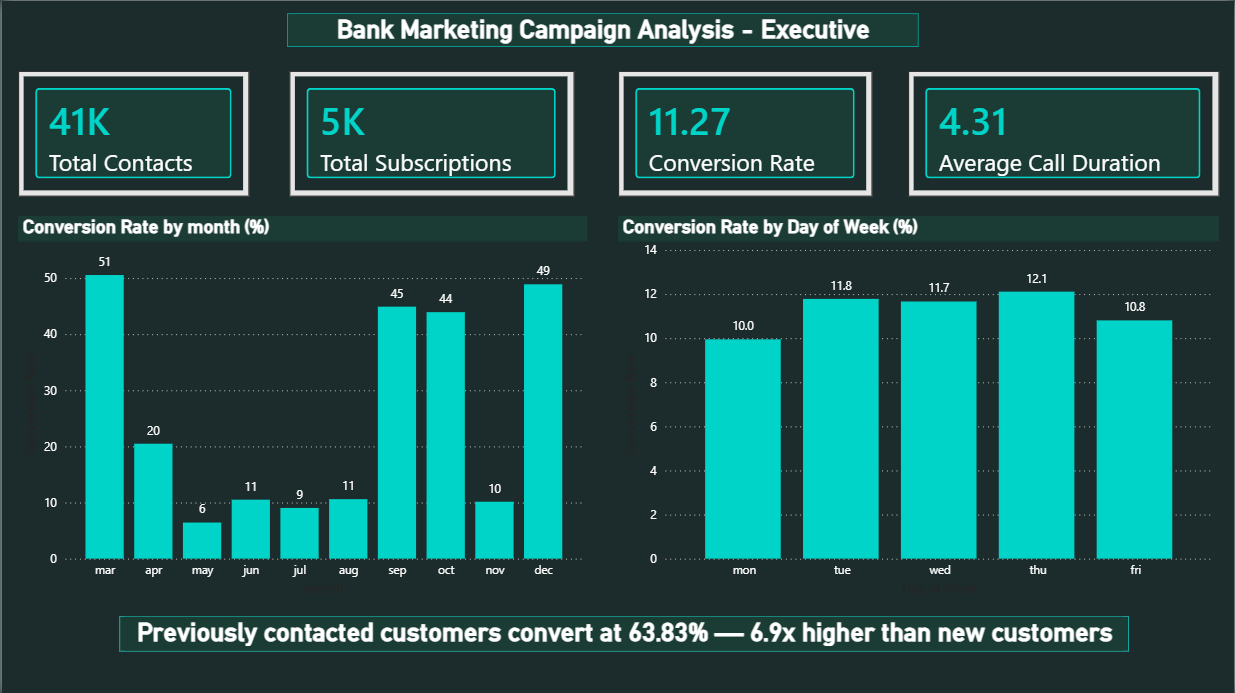

This screenshot's page, from the dashboard's own definition file:
{"tool":"powerbi","page":{"name":"Executive Overview","canvas":[1280,720],"ordinal":0},"visuals":[{"type":"cardVisual","fields":{"Data":["bank_marketing_cleaned.Total Contacts"]},"box":[17.1,72.9,240,130],"z":0},{"type":"cardVisual","fields":{"Data":["bank_marketing_cleaned.Total Subscriptions"]},"box":[298.6,72.9,295.7,130],"z":1000},{"type":"cardVisual","fields":{"Data":["bank_marketing_cleaned.Conversion Rate"]},"box":[640,72.9,264.3,130],"z":2000},{"type":"cardVisual","fields":{"Data":["bank_marketing_cleaned.Average Call Duration"]},"box":[941.4,72.9,322.9,130],"z":3000},{"type":"clusteredColumnChart","title":"Conversion Rate by month (%)","fields":{"Category":["bank_marketing_cleaned.month"],"Y":["bank_marketing_cleaned.Conversion Rate"]},"box":[17.1,222.9,591.4,400],"z":4000},{"type":"clusteredColumnChart","title":"Conversion Rate by Day of Week (%)","fields":{"Category":["bank_marketing_cleaned.Day of Week"],"Y":["bank_marketing_cleaned.Conversion Rate"]},"box":[640,222.9,624.3,400],"z":5000},{"type":"textbox","title":"Previously contacted customers convert at 63.83% — 6.9x higher than new customers","box":[121.4,638.6,1048.6,37.1],"z":6000},{"type":"textbox","title":"Bank Marketing Campaign Analysis - Executive Overview","box":[295.7,12.9,655.7,34.3],"z":7000}]}

Visuals, with their boxes in screenshot pixels (x1, y1, x2, y2), scaled from the page's 1280x720 canvas onto the 1235x693 screenshot:
cardVisual - bank_marketing_cleaned.Total Contacts: 16:70:248:195
cardVisual - bank_marketing_cleaned.Total Subscriptions: 288:70:573:195
cardVisual - bank_marketing_cleaned.Conversion Rate: 618:70:873:195
cardVisual - bank_marketing_cleaned.Average Call Duration: 908:70:1220:195
"Conversion Rate by month (%)" clusteredColumnChart: 16:215:587:600
"Conversion Rate by Day of Week (%)" clusteredColumnChart: 618:215:1220:600
"Previously contacted customers convert at 63.83% — 6.9x higher than new customers" textbox: 117:615:1129:650
"Bank Marketing Campaign Analysis - Executive Overview" textbox: 285:12:918:45
